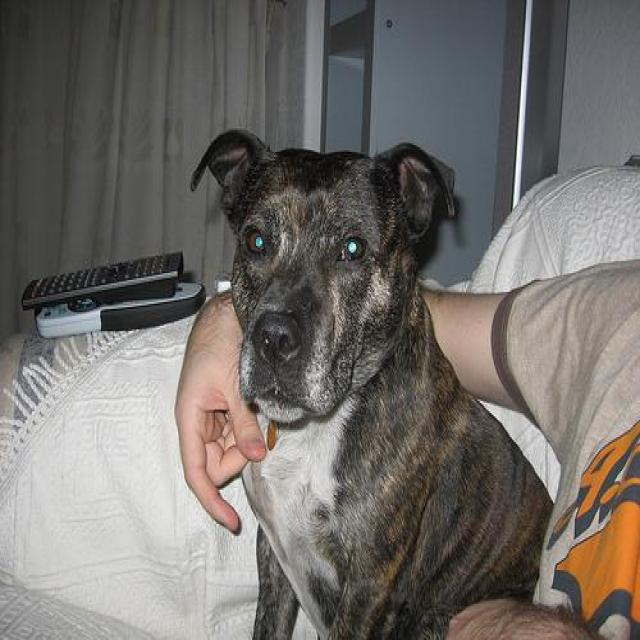staffordshire_bullterrier: (183, 118, 558, 638)
